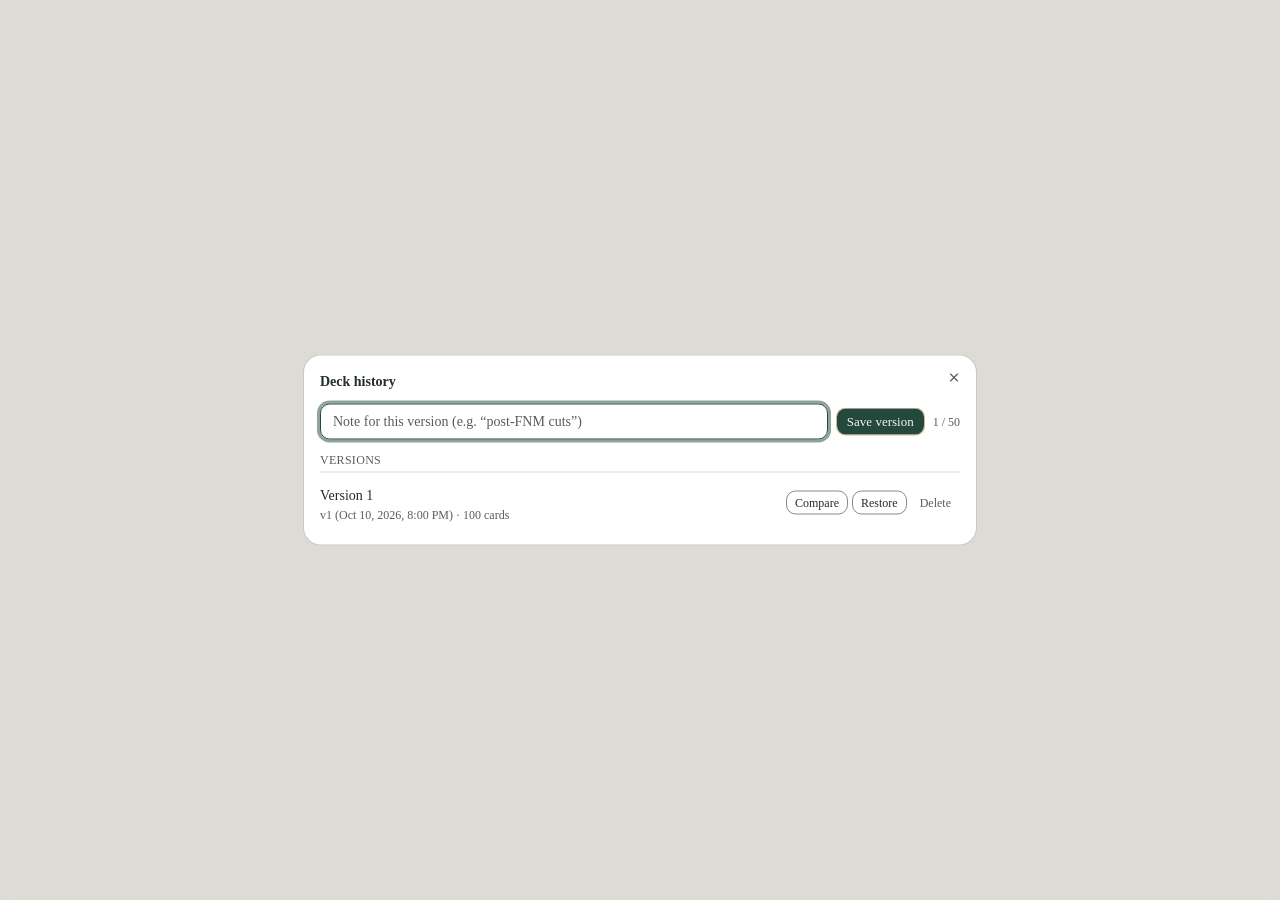
Test: HistoryDialog — Compare, Restore, Delete › Restore flushes first, posts, says what happened, reloads and re-hydrates the editor
Expected: the dialog "Deck history" shows "version 1", [320, 488, 373, 502]
Click the button "Restore".
click(879, 502)  # box [852, 490, 907, 514]
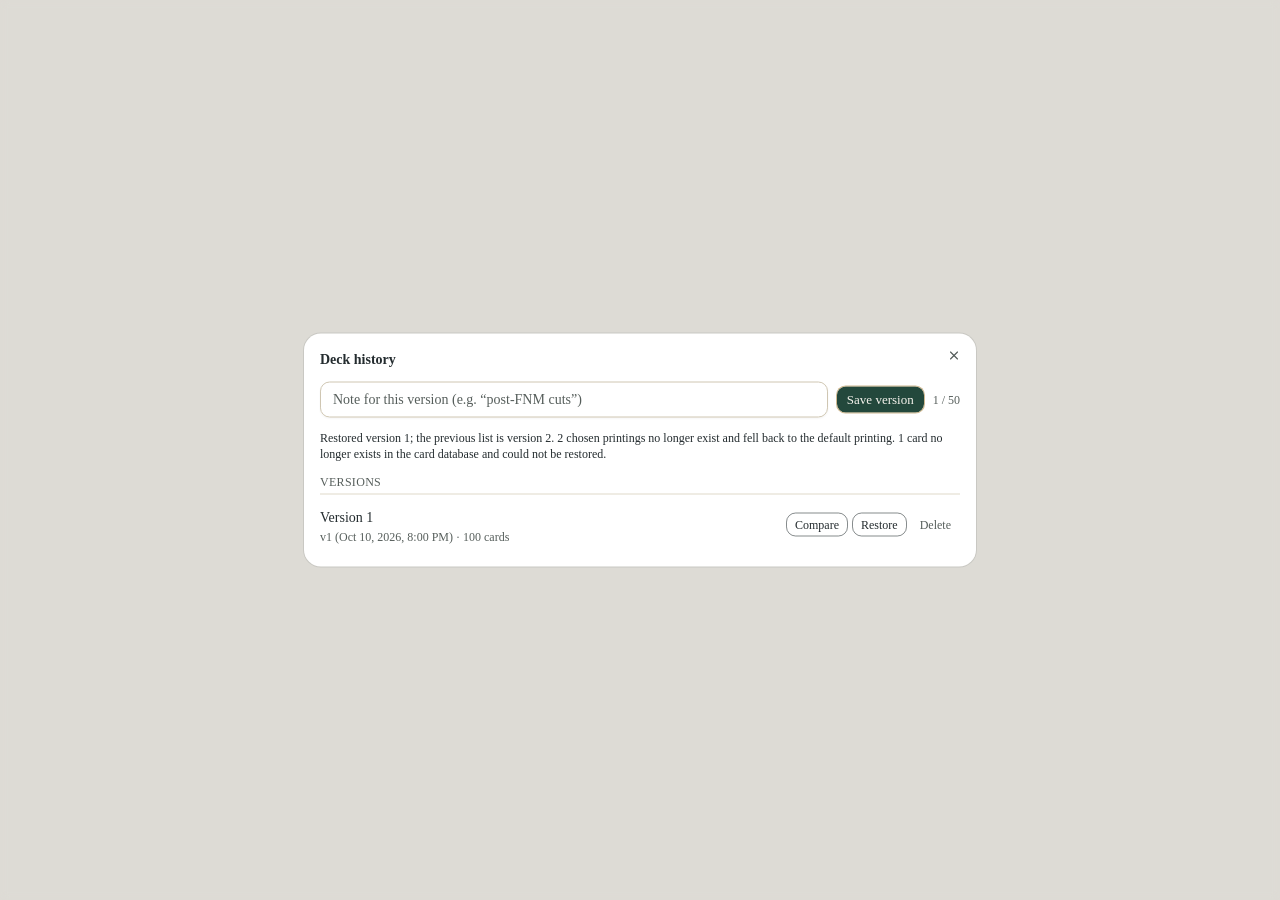
Result: the dialog "Deck history" shows "Restored version 1; the previous list is version 2. 2 chosen printings no longer exist and fell back to the default printing. 1 card no longer exists in the car" at [320, 430, 942, 460]
